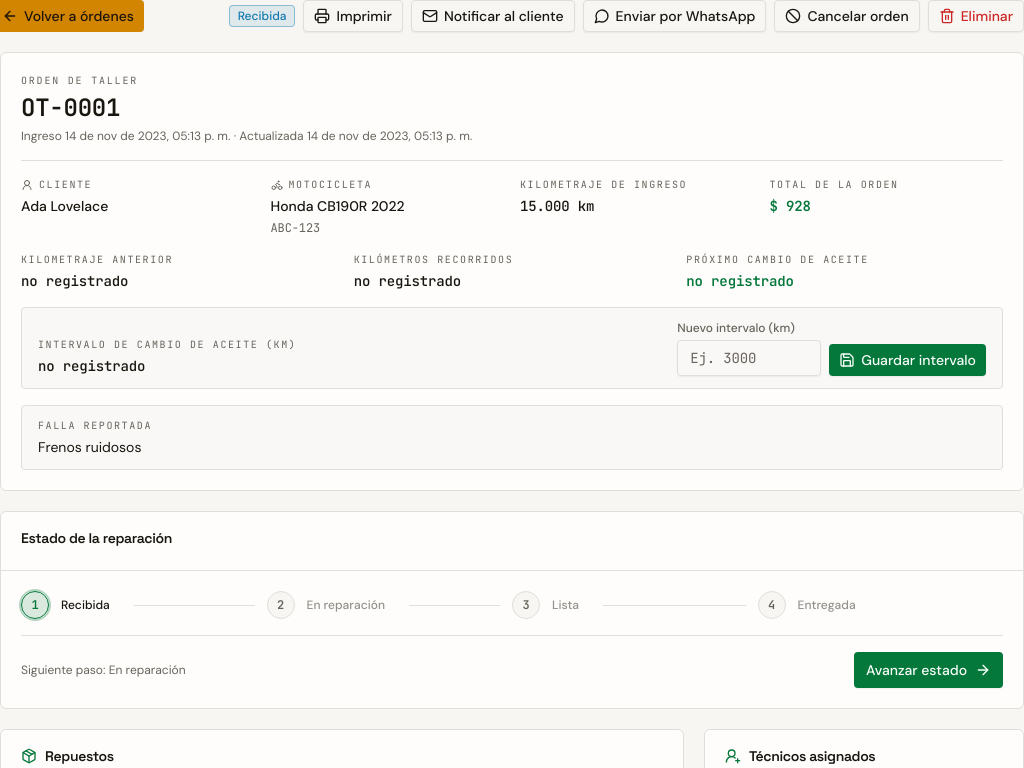
it: OrderDetailPage › renders the daily hope promise in the document footer
Expected: the heading "OT-0001" is shown, [21, 92, 120, 123]
# The document preview lives in the print dialog.
Click the button with test id "order_detail.print_button" at (353, 16), box [304, 0, 403, 32]
(page scrolled)
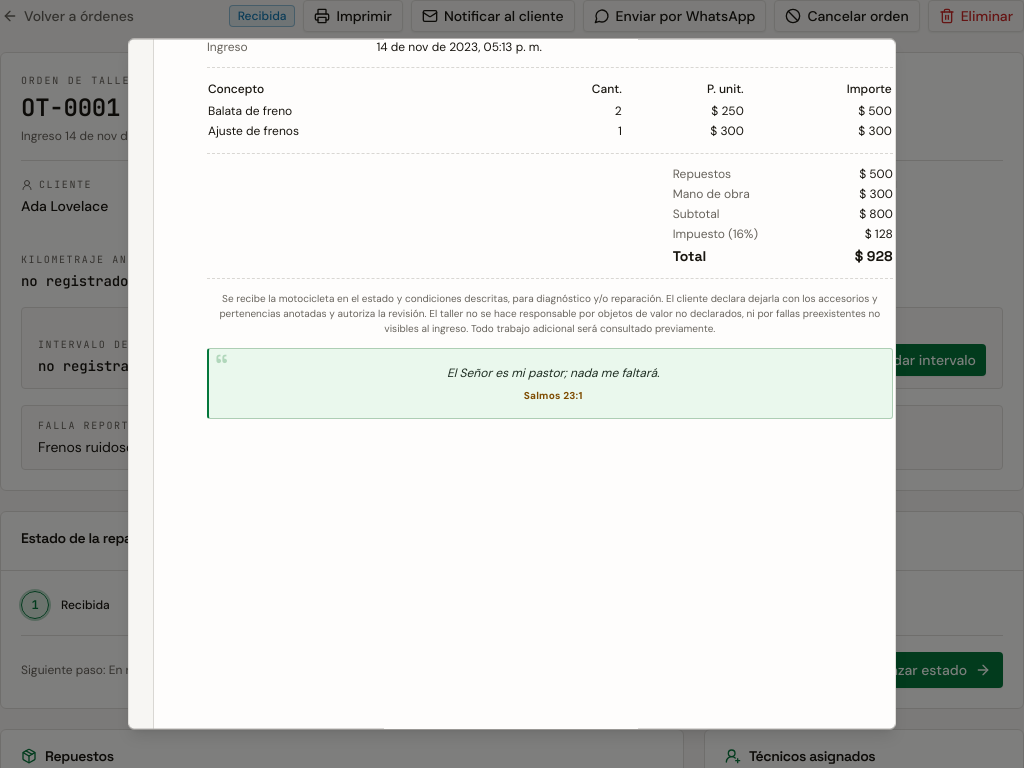
Expected: the element with test id "order_detail.document.hope_message" shows "El Señor es mi pastor; nada me faltará.", [447, 365, 660, 381]
Expected: the element with test id "order_detail.document.hope_message" shows "Salmos 23:1", [524, 389, 583, 402]
